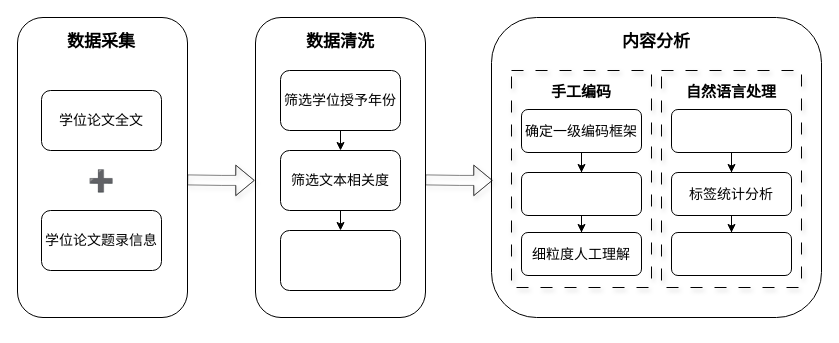
Image size: 839x343. Some labels were removed from this diagram. Here are the shapes that lost their labels. From the top down, the centre of each, then its label:
At pixel 731 130: "命名实体提取".
At pixel 581 194: "半开放式编码".
At pixel 340 260: "获得内容分析样本".
At pixel 731 254: "整体性关联理解".
